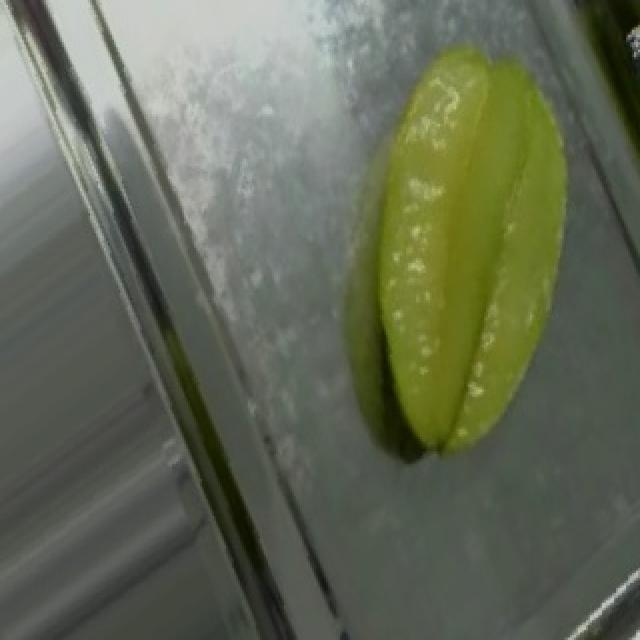fruit: (302, 10, 640, 394)
